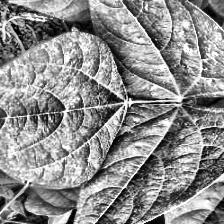Bean Rust: (54, 105, 224, 224), (0, 27, 124, 188), (91, 0, 224, 91), (161, 172, 224, 224)
